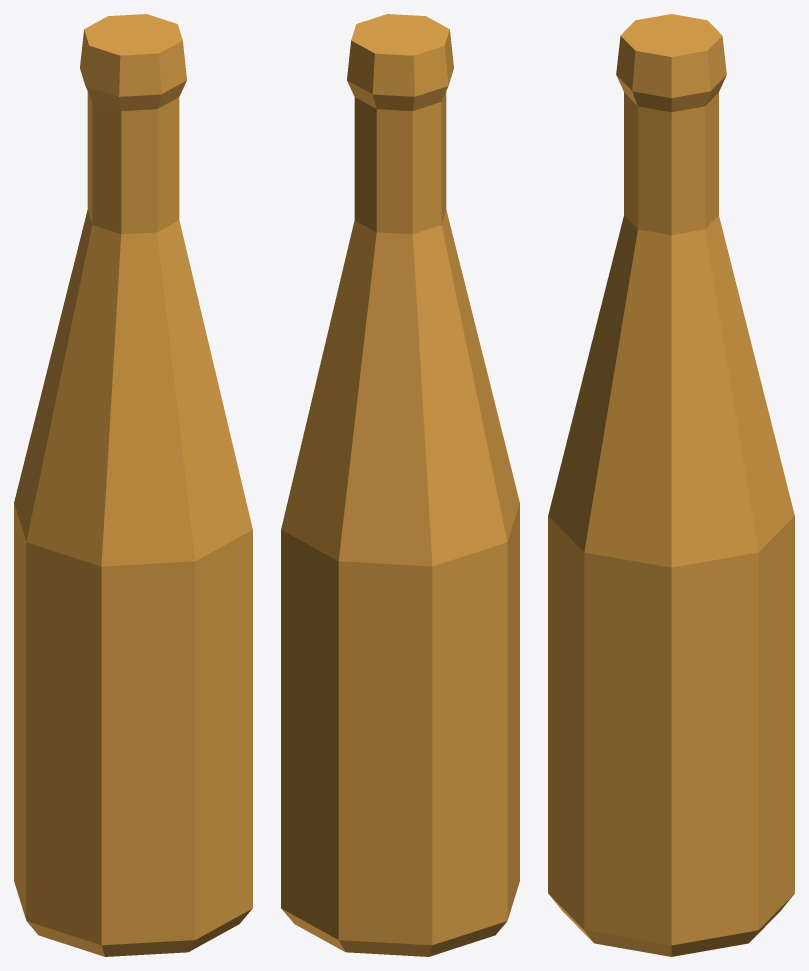
Rendered from drinks-wine-bottle-white.glb.
3 renders of one model, left to right at view 1: azimuth 30°, elevation 25°; view 2: azimuth 150°, elevation 25°; view 3: azimuth 270°, elevation 25°, orthographic.
Parts seen in each view (by area): view 1: wine-bottle-white; view 2: wine-bottle-white; view 3: wine-bottle-white.
Boxes of the visible parts, x1,y1,x2,y2 form: wine-bottle-white: (14, 14, 252, 956); wine-bottle-white: (281, 14, 519, 956); wine-bottle-white: (548, 14, 794, 956).
Bounding box in the file's own units: 0.0847 × 0.3317 × 0.0847.
